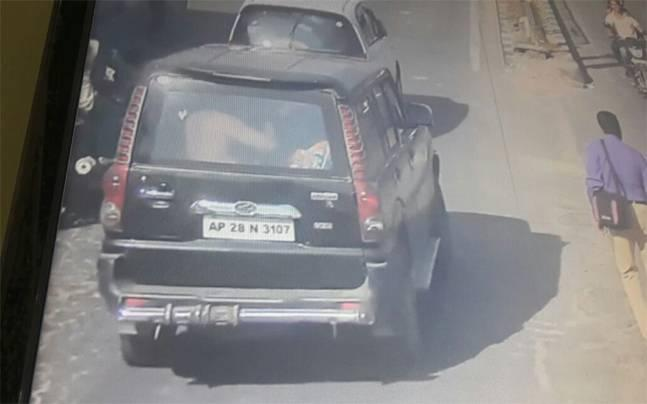AP28N3107: (201, 213, 294, 240)
